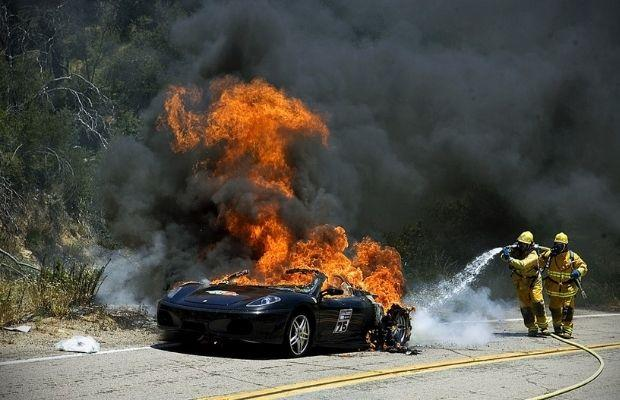fire: (169, 84, 336, 196), (244, 213, 421, 314)
